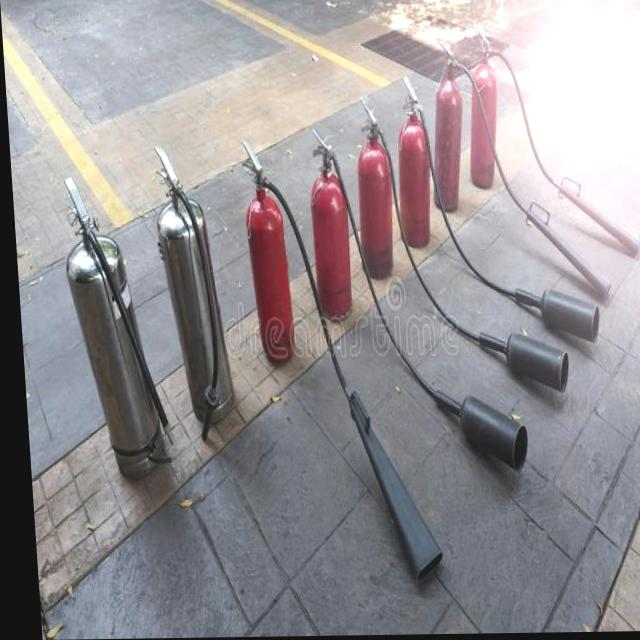FireExtinguisher: (235, 136, 439, 591), (300, 123, 527, 482), (346, 93, 569, 405), (385, 70, 598, 351), (421, 35, 611, 309), (457, 19, 640, 263), (53, 171, 172, 487), (146, 140, 233, 446)
